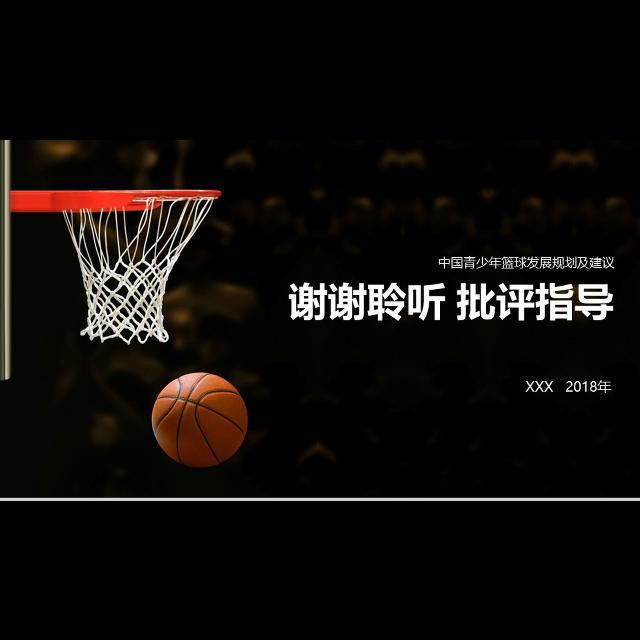basketball: (154, 372, 248, 468)
rim: (56, 188, 222, 344)
